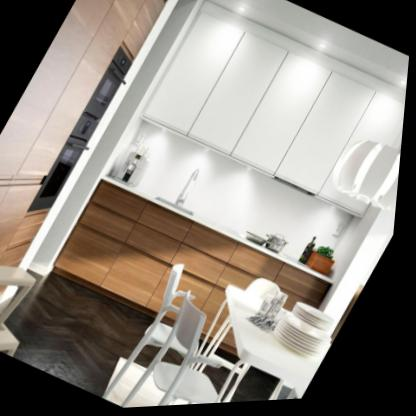Chair: (126, 286, 281, 410)
Table: (159, 276, 351, 408)
